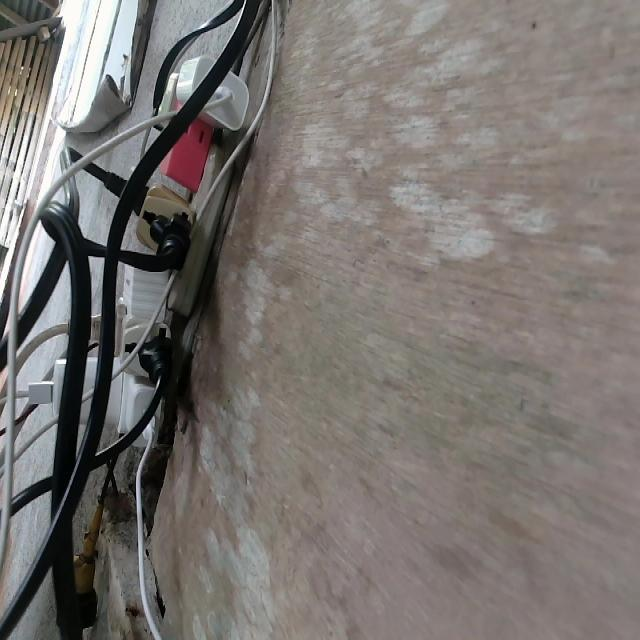-: (45, 51, 252, 449)
